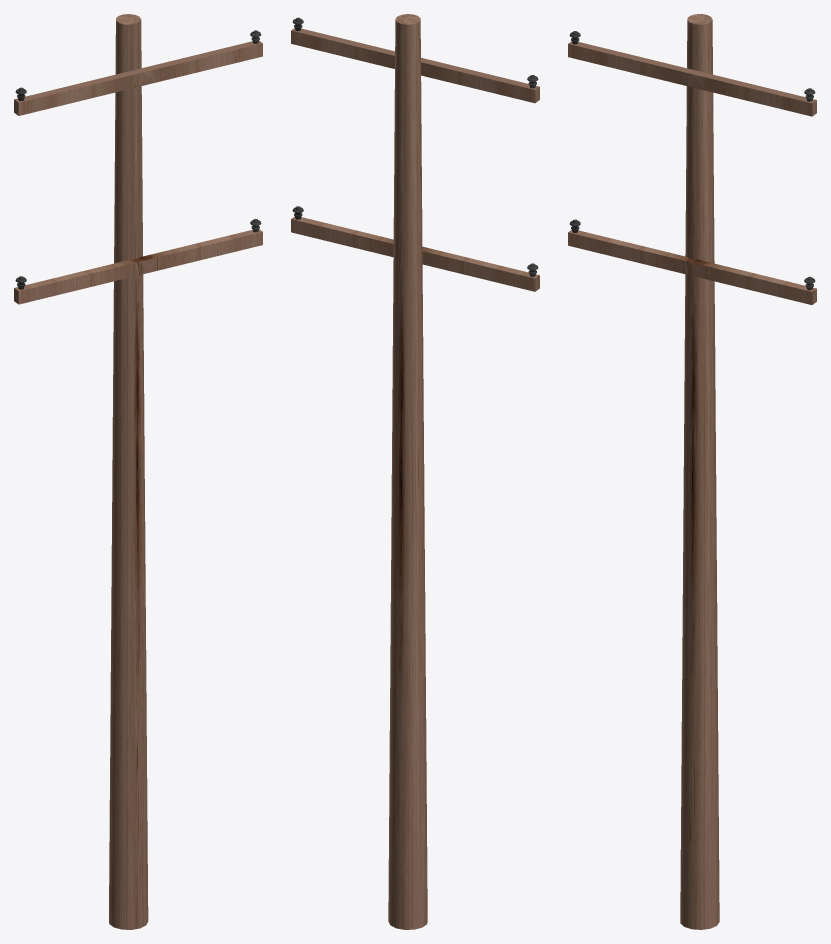
File: telephonepole_1.fbx
3 renders of one model, left to right at view 1: azimuth 30°, elevation 25°; view 2: azimuth 150°, elevation 25°; view 3: azimuth 330°, elevation 25°, orthographic.
Visible parts, largest first — view 1: telephone_pole; view 2: telephone_pole; view 3: telephone_pole.
Part boxes in pixels (x1,y1,x2,y2): telephone_pole: (14,14,262,929); telephone_pole: (291,14,539,929); telephone_pole: (568,14,816,929).
Bounding box in the file's own units: 6.77 × 23.9 × 1.02.
